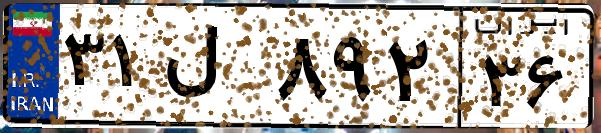1: (110, 28, 158, 98)
2: (385, 28, 445, 110)
3: (57, 26, 110, 100), (475, 38, 525, 113)
6: (525, 38, 570, 115)
8: (270, 28, 330, 110)
9: (330, 28, 385, 110)
ل: (158, 20, 270, 120)
